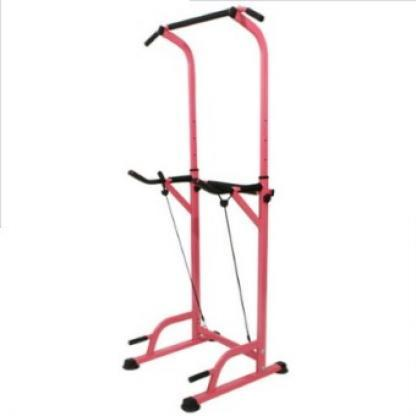chinning dipping: (121, 4, 269, 413)
